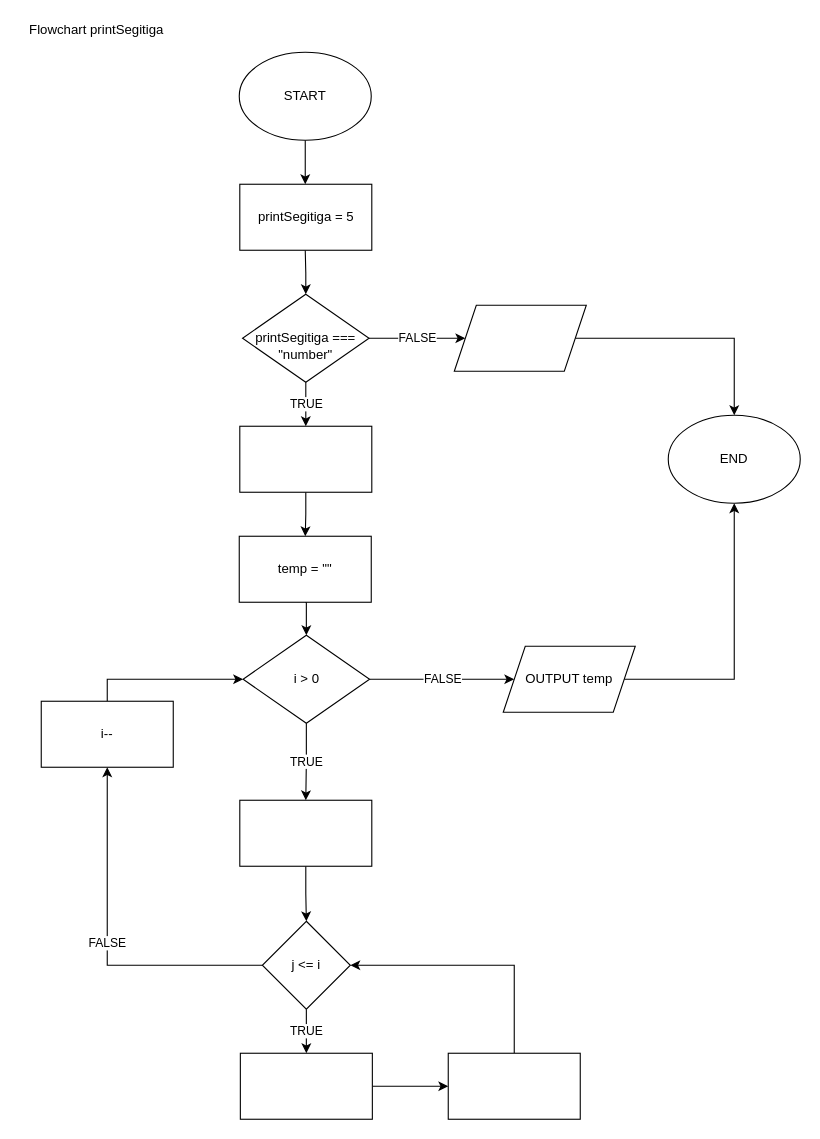
Image size: 820x1139. Some labels were removed from this diagram. The shapes that lost their labels are listed below. From the top down, each one's centre as x and y in pixels, then its label:
(x=519, y=337): OUTPUT "Data Harus Number"
(x=305, y=458): i = printSegitiga
(x=305, y=832): j = 1
(x=305, y=1085): temp += STRING(y).CONCAT(" ")
(x=513, y=1085): j++
